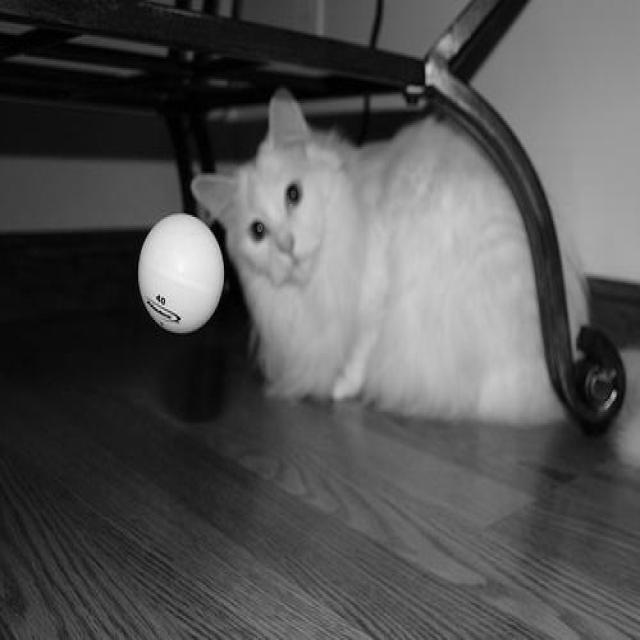ping-pong-ball: (138, 210, 225, 336)
